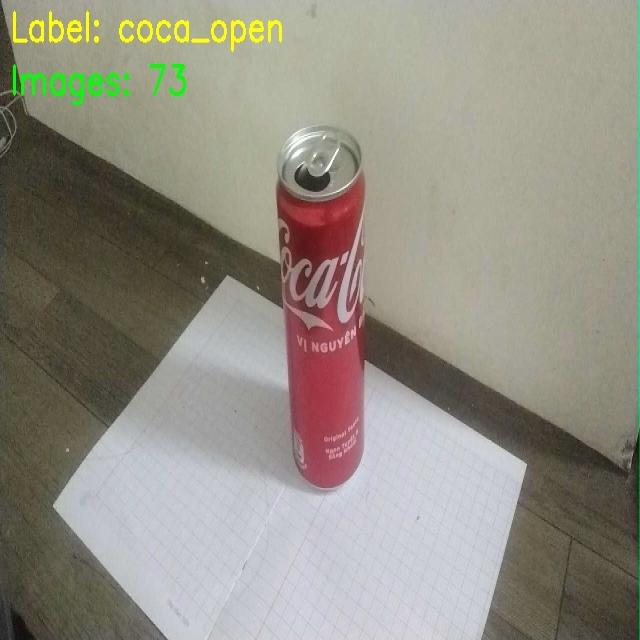Coca_open: (261, 118, 389, 496)
